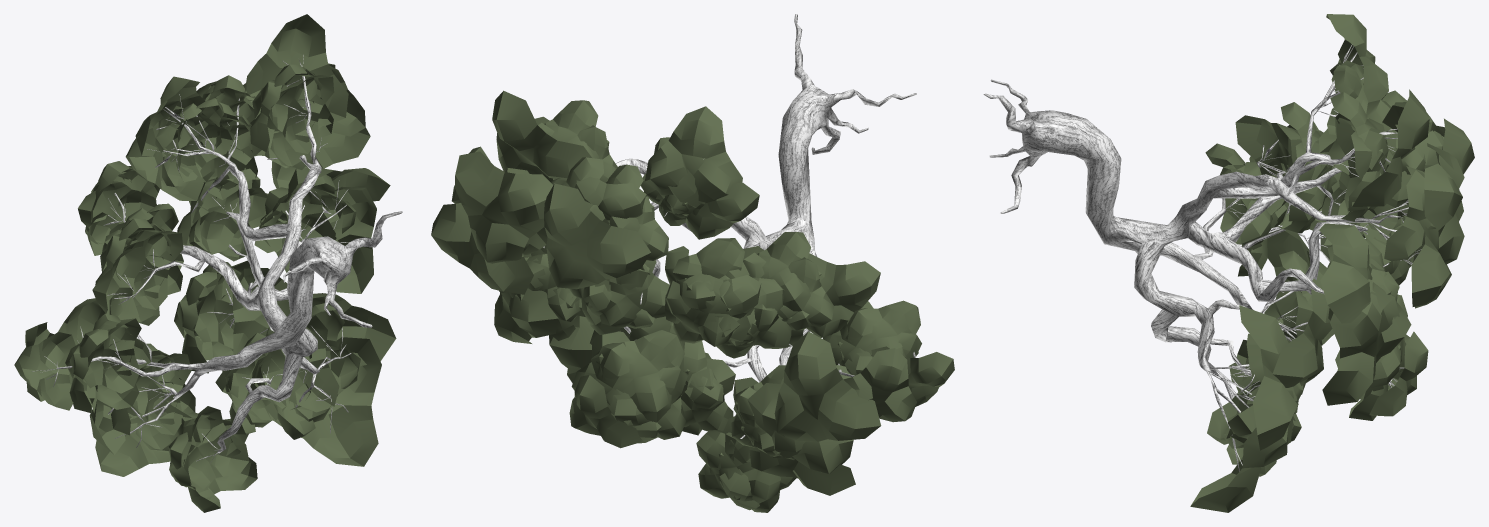
File: BigTree.fbx
3 views of the same model, side by side, from view 1: azimuth 30°, elevation 25°; view 2: azimuth 150°, elevation 25°; view 3: azimuth 270°, elevation 25° (orthographic). The views are drawn at different scales.
Parts seen in each view (by area): view 1: old tree; view 2: old tree; view 3: old tree.
Part boxes in pixels (x1=…): old tree: x1=14, y1=14, x2=402, y2=512; old tree: x1=431, y1=14, x2=954, y2=512; old tree: x1=983, y1=14, x2=1474, y2=512.
Size of the model in its own units: 1298 by 1196 by 1144.
